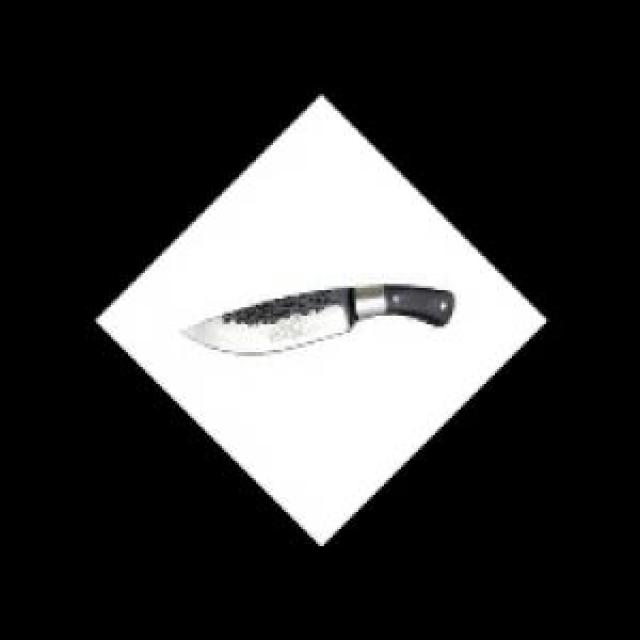knife: (175, 276, 459, 358)
